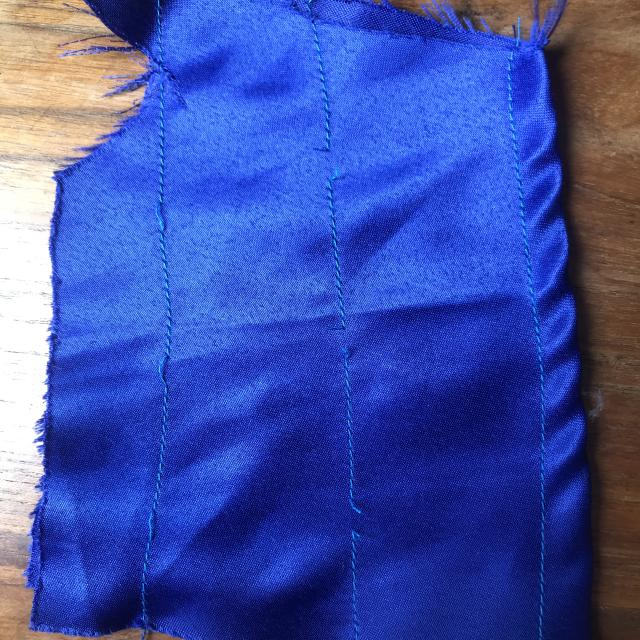broken: (303, 130, 357, 193), (334, 484, 377, 548), (331, 312, 376, 366)
skip: (124, 492, 177, 547), (134, 190, 188, 243), (145, 345, 191, 396)
